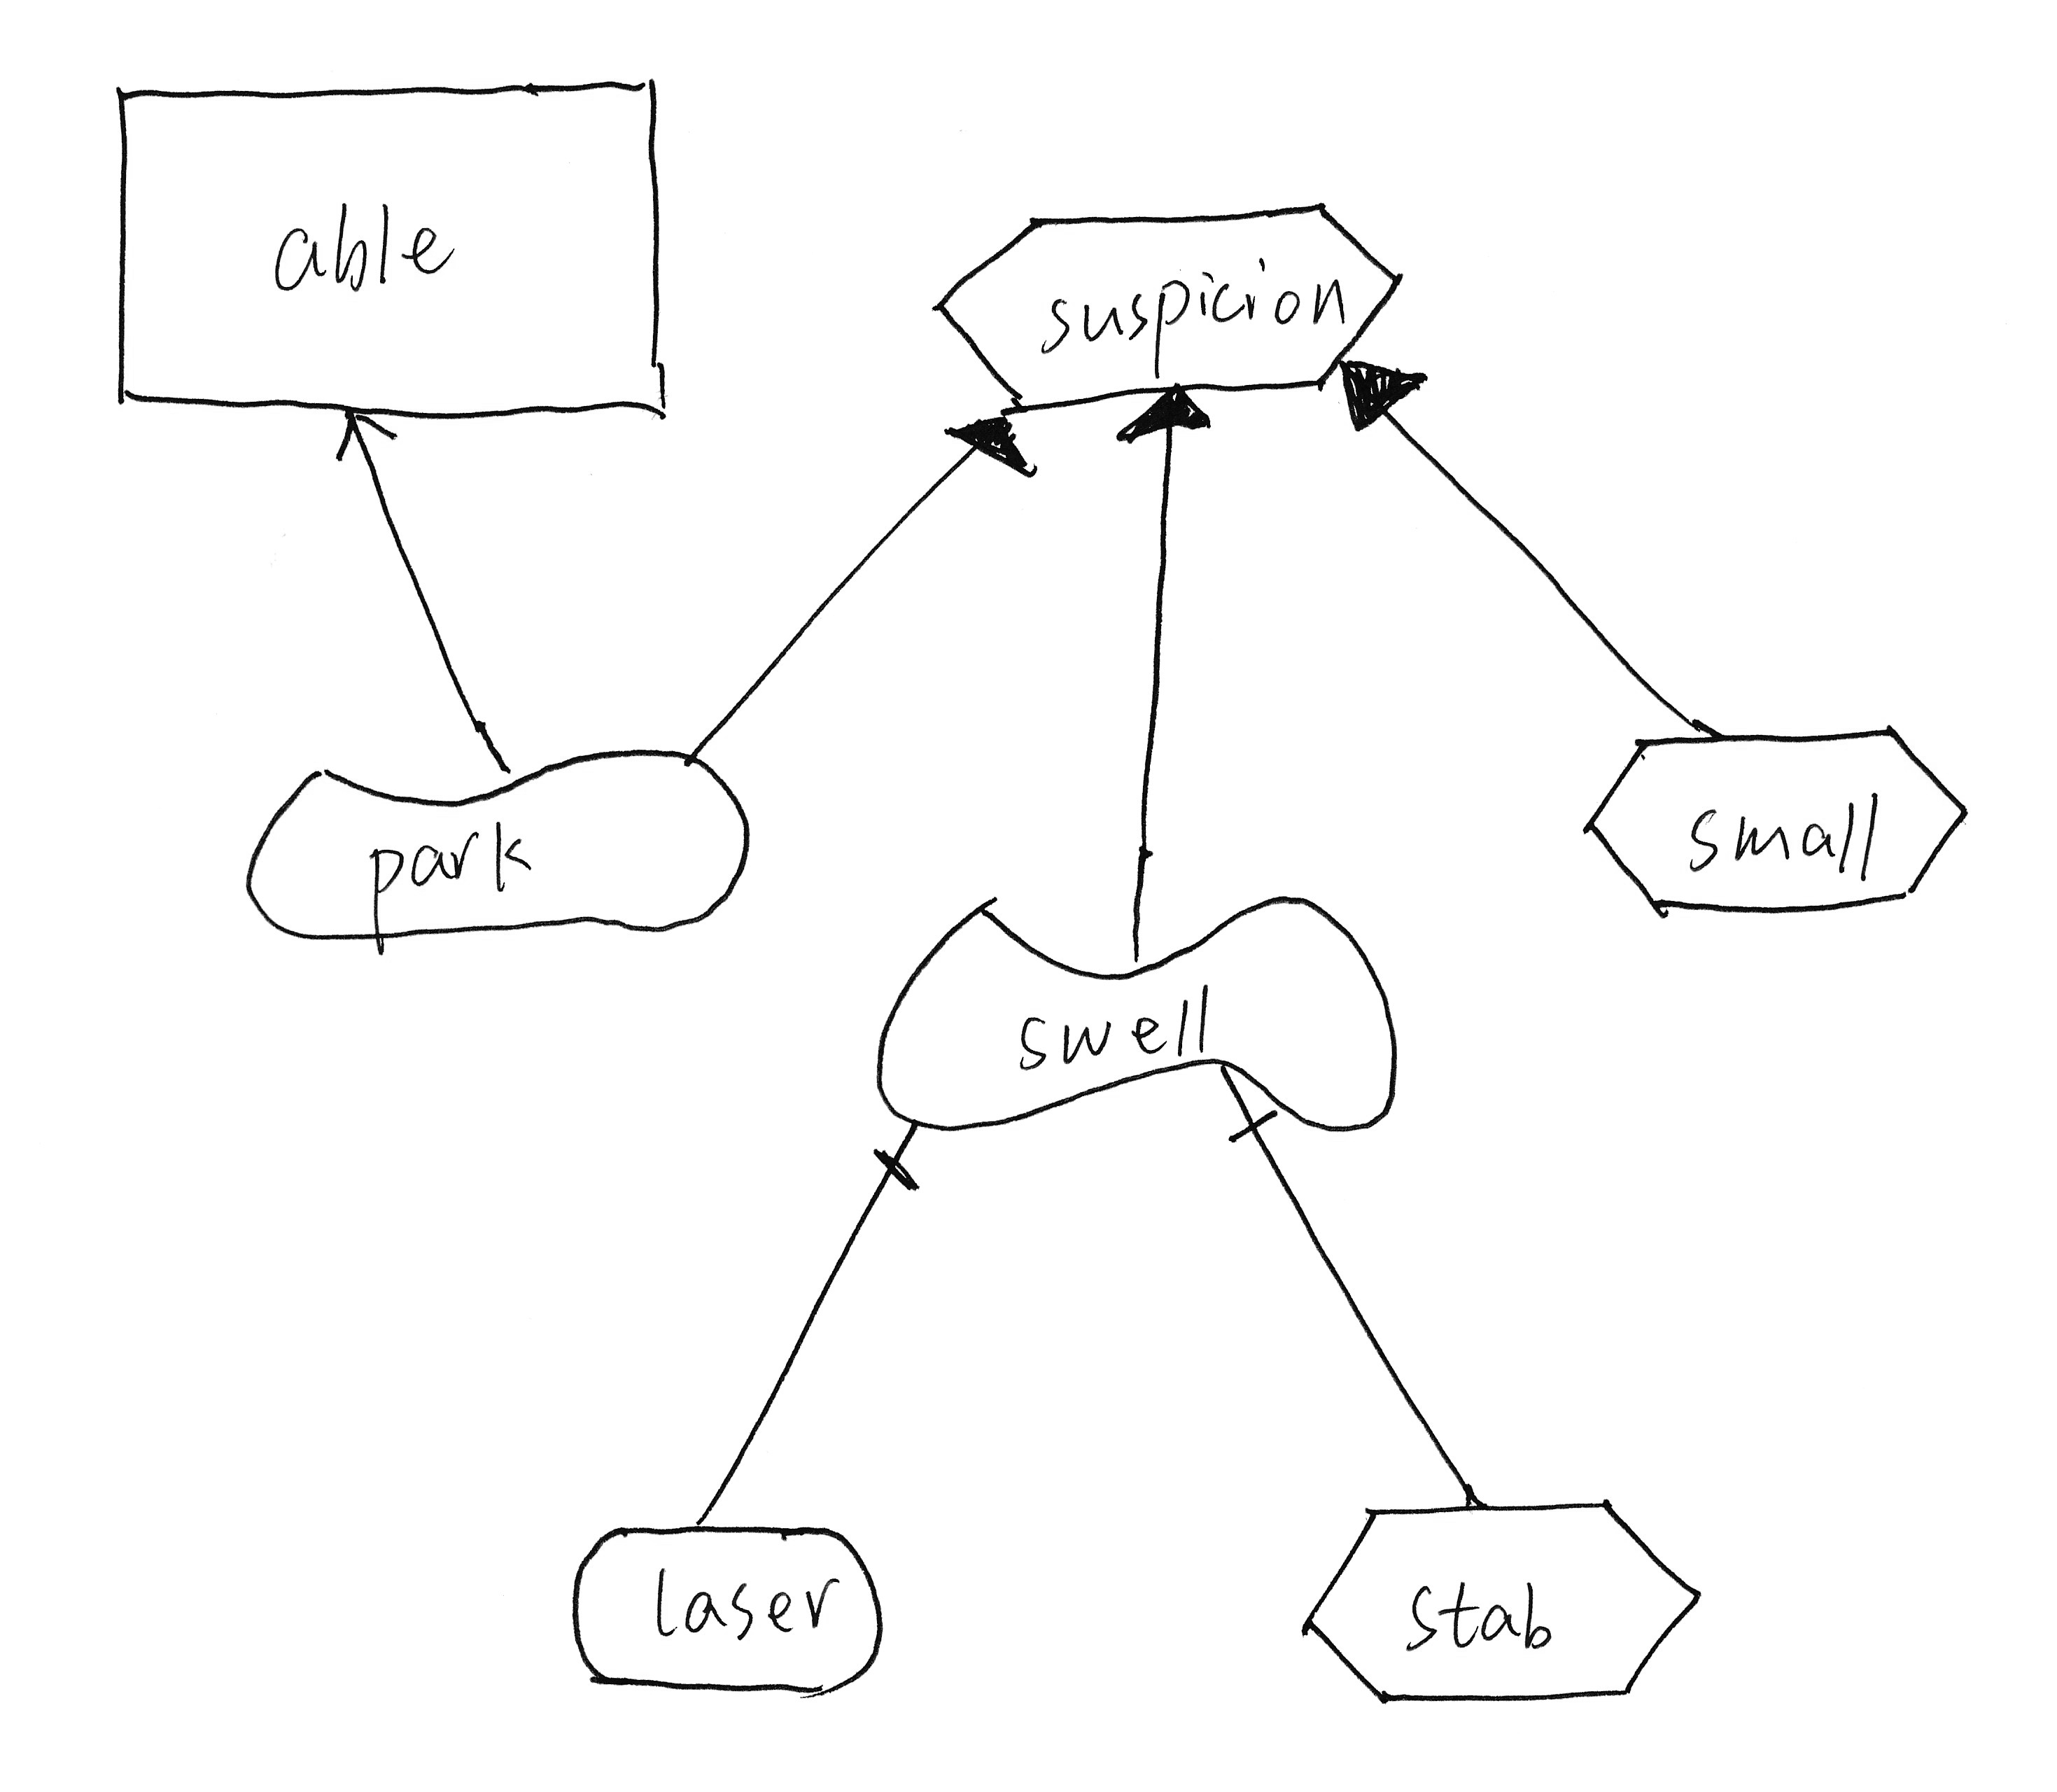and: (838, 1120, 939, 1211), (1205, 1078, 1298, 1165)
arrow: (317, 404, 420, 476)
or: (1317, 350, 1448, 446), (931, 394, 1039, 504), (1114, 376, 1221, 458)
quality: (852, 875, 1408, 1144), (220, 724, 757, 959)
resource: (96, 63, 682, 446)
task: (915, 184, 1417, 423), (1279, 1479, 1714, 1725), (1569, 714, 1980, 945), (551, 1494, 906, 1711)
